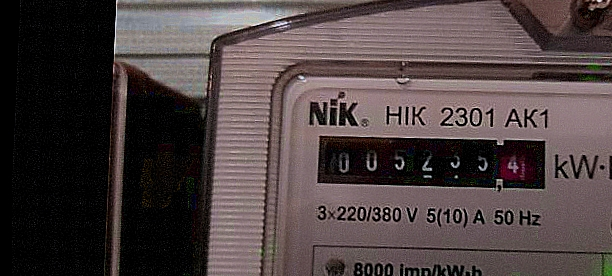0: (363, 147, 380, 172), (335, 148, 351, 173)
2: (419, 146, 436, 172)
3: (446, 144, 464, 170)
4: (503, 146, 523, 176)
5: (474, 144, 491, 173), (392, 145, 407, 171)
screen: (304, 118, 557, 202)
